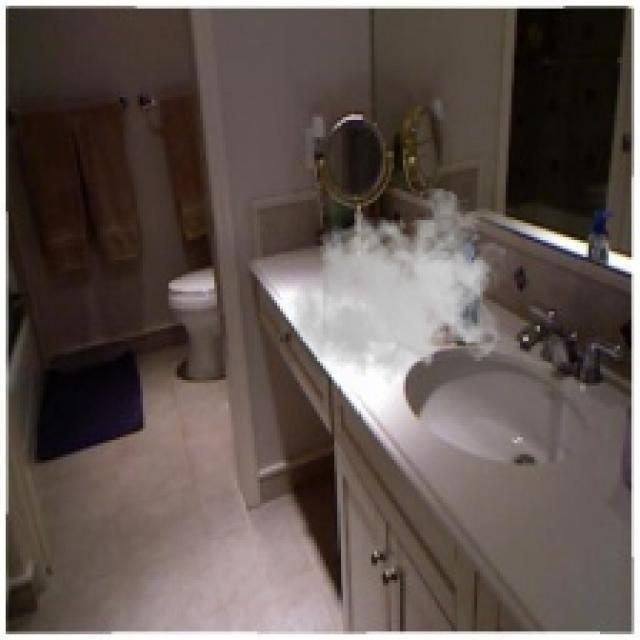Smoke: (291, 188, 506, 398)
